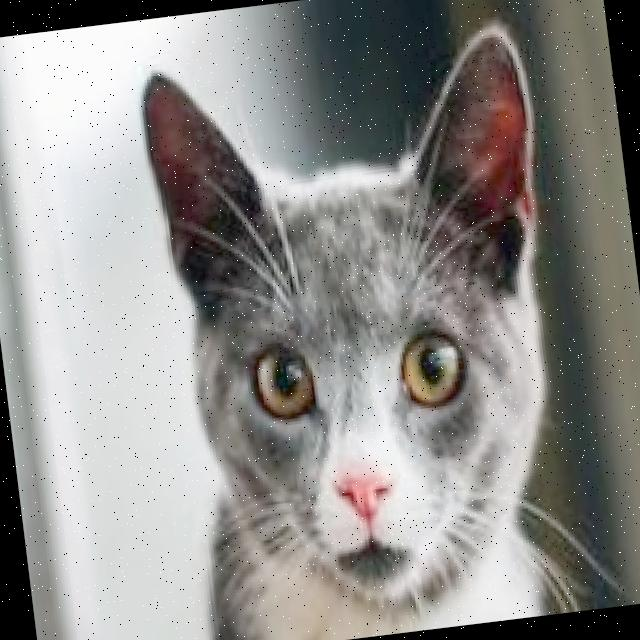Happy: (200, 252, 559, 627)
